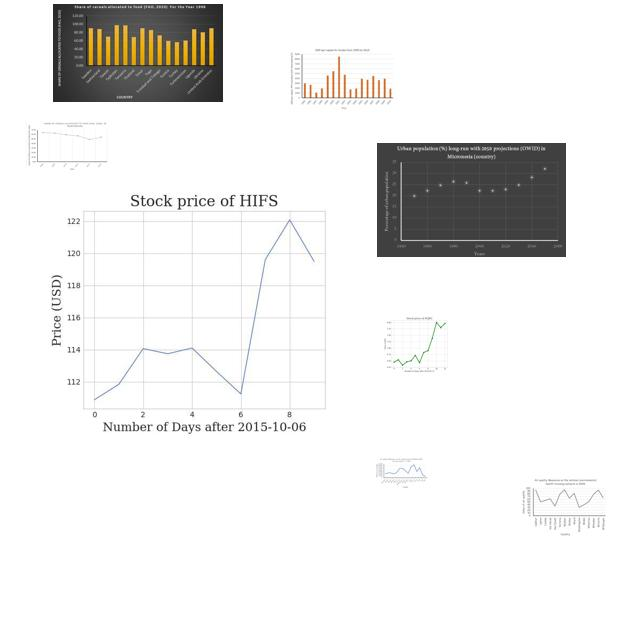Graph: (29, 180, 371, 437), (377, 143, 566, 257), (53, 4, 223, 102), (289, 47, 395, 110), (520, 477, 607, 537), (378, 313, 459, 374), (26, 121, 109, 171), (375, 457, 428, 489)
